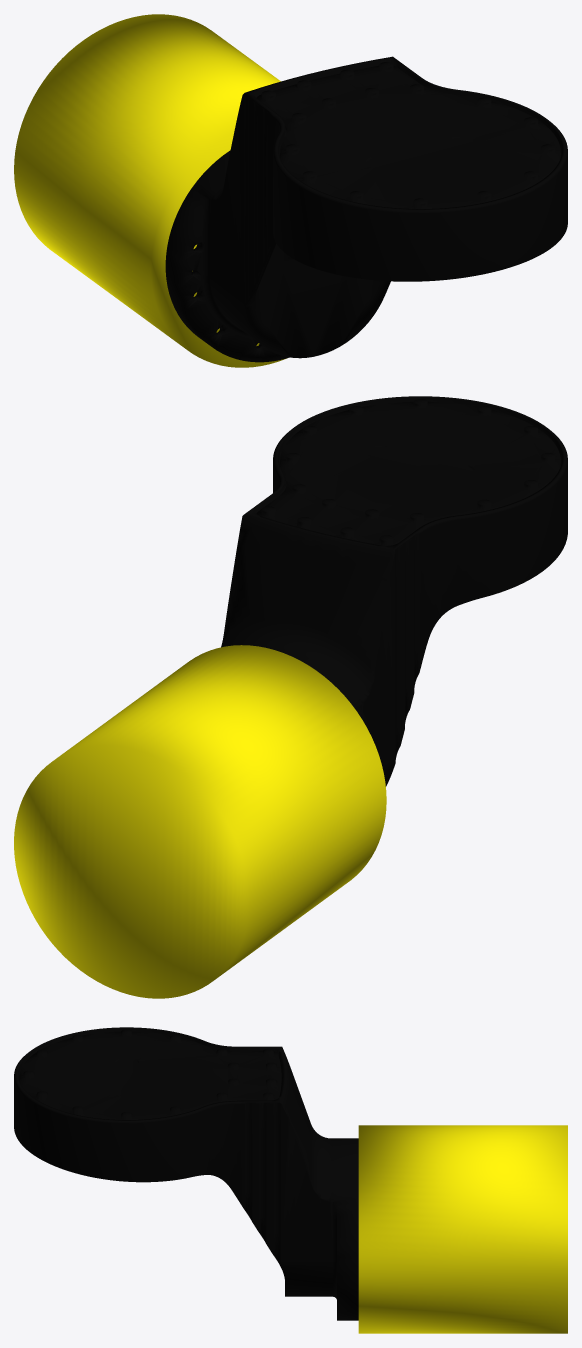
3 views of the same model, one above another, from view 1: azimuth 30°, elevation 25°; view 2: azimuth 150°, elevation 25°; view 3: azimuth 270°, elevation 25° (orthographic). The views are drawn at different scales.
Visible parts, largest first — view 1: transform1; view 2: transform1; view 3: transform1.
Boxes of the visible parts, x1,y1,x2,y2 form: transform1: [14, 14, 567, 367]; transform1: [14, 396, 567, 998]; transform1: [14, 1027, 567, 1333].
Bounding box in the file's own units: 10.4 × 12.77 × 25.55.
1 material, 1 textured.
